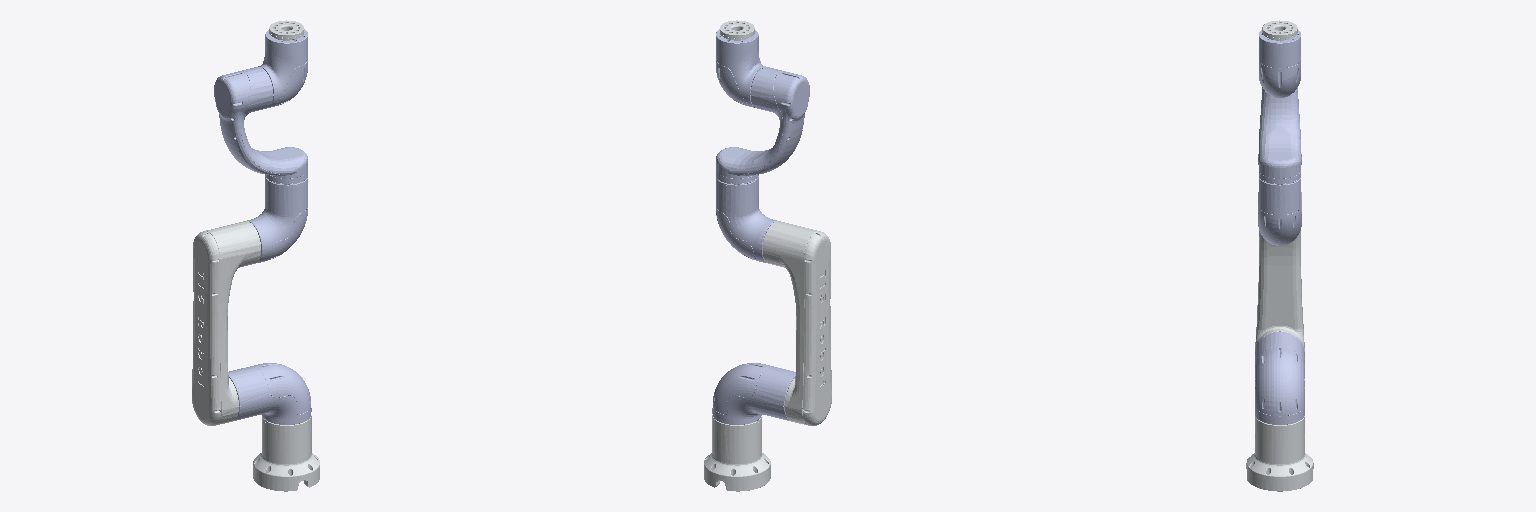
The robot description file, URDF, robot "arm3":
<?xml version="1.0" encoding="utf-8"?>
<!-- This URDF was automatically created by SolidWorks to URDF Exporter! Originally created by [author] ([email redacted]) 
     Commit Version: 1.6.0-1-g15f4949  Build Version: 1.6.7594.29634
     For more information, please see http://wiki.ros.org/sw_urdf_exporter -->
<robot
  name="arm3">
  <link
    name="base_link">
    <inertial>
      <origin
        xyz="-9.79424593313345E-06 -1.585955657668E-07 0.0489234030702085"
        rpy="0 0 0" />
      <mass
        value="0.804132326407685" />
      <inertia
        ixx="0.00208344333564978"
        ixy="1.18558125536883E-09"
        ixz="5.74696984729546E-07"
        iyy="0.00215790750330381"
        iyz="3.91108221651984E-09"
        izz="0.00189424843776922" />
    </inertial>
    <visual>
      <origin
        xyz="0 0 0"
        rpy="0 0 0" />
      <geometry>
        <mesh
          filename="package://ti5_description/meshes/arm3/base_link.STL" />
      </geometry>
      <material
        name="">
        <color
          rgba="0.898039215686275 0.917647058823529 0.929411764705882 1" />
      </material>
    </visual>
    <collision>
      <origin
        xyz="0 0 0"
        rpy="0 0 0" />
      <geometry>
        <mesh
          filename="package://ti5_description/meshes/arm3/base_link.STL" />
      </geometry>
    </collision>
  </link>
  <link
    name="A_Link">
    <inertial>
      <origin
        xyz="-0.0489008596868101 1.11612938793922E-06 0.0463358566053683"
        rpy="0 0 0" />
      <mass
        value="0.610762503342567" />
      <inertia
        ixx="0.00114147247329587"
        ixy="5.06610157576292E-08"
        ixz="0.000594506347228851"
        iyy="0.00188787363342557"
        iyz="-1.78802582128474E-09"
        izz="0.00179154452662575" />
    </inertial>
    <visual>
      <origin
        xyz="0 0 0"
        rpy="0 0 0" />
      <geometry>
        <mesh
          filename="package://ti5_description/meshes/arm3/A_Link.STL" />
      </geometry>
      <material
        name="">
        <color
          rgba="0.792156862745098 0.819607843137255 0.933333333333333 1" />
      </material>
    </visual>
    <collision>
      <origin
        xyz="0 0 0"
        rpy="0 0 0" />
      <geometry>
        <mesh
          filename="package://ti5_description/meshes/arm3/A_Link.STL" />
      </geometry>
    </collision>
  </link>
  <joint
    name="A"
    type="revolute">
    <origin
      xyz="0 0 0.126"
      rpy="0 0 0" />
    <parent
      link="base_link" />
    <child
      link="A_Link" />
    <axis
      xyz="0 0 -1" />
    <limit
      lower="-3.16"
      upper="3.16"
      effort="0"
      velocity="0" />
  </joint>
  <link
    name="B_Link">
    <inertial>
      <origin
        xyz="-0.0148174543621407 -7.32844793930168E-07 0.163674093761747"
        rpy="0 0 0" />
      <mass
        value="1.01613483164023" />
      <inertia
        ixx="0.0150679500066006"
        ixy="-4.4816327486528E-09"
        ixz="-0.00102504390856525"
        iyy="0.014770883335043"
        iyz="-1.82516394777523E-07"
        izz="0.00115753465608845" />
    </inertial>
    <visual>
      <origin
        xyz="0 0 0"
        rpy="0 0 0" />
      <geometry>
        <mesh
          filename="package://ti5_description/meshes/arm3/B_Link.STL" />
      </geometry>
      <material
        name="">
        <color
          rgba="0.898039215686275 0.917647058823529 0.929411764705882 1" />
      </material>
    </visual>
    <collision>
      <origin
        xyz="0 0 0"
        rpy="0 0 0" />
      <geometry>
        <mesh
          filename="package://ti5_description/meshes/arm3/B_Link.STL" />
      </geometry>
    </collision>
  </link>
  <joint
    name="B"
    type="revolute">
    <origin
      xyz="-0.126 0 0.064"
      rpy="0 0 0" />
    <parent
      link="A_Link" />
    <child
      link="B_Link" />
    <axis
      xyz="1 0 0" />
    <limit
      lower="-1.9"
      upper="1.9"
      effort="0"
      velocity="0" />
  </joint>
  <link
    name="C_Link">
    <inertial>
      <origin
        xyz="0.0525172381530465 -6.40515808356063E-07 0.0357525410320489"
        rpy="0 0 0" />
      <mass
        value="0.207878829794794" />
      <inertia
        ixx="0.000453317419670722"
        ixy="-7.59755901152063E-08"
        ixz="-0.000198039237717296"
        iyy="0.000537145689525471"
        iyz="2.48179360794005E-09"
        izz="0.000355868230184589" />
    </inertial>
    <visual>
      <origin
        xyz="0 0 0"
        rpy="0 0 0" />
      <geometry>
        <mesh
          filename="package://ti5_description/meshes/arm3/C_Link.STL" />
      </geometry>
      <material
        name="">
        <color
          rgba="0.792156862745098 0.819607843137255 0.933333333333333 1" />
      </material>
    </visual>
    <collision>
      <origin
        xyz="0 0 0"
        rpy="0 0 0" />
      <geometry>
        <mesh
          filename="package://ti5_description/meshes/arm3/C_Link.STL" />
      </geometry>
    </collision>
  </link>
  <joint
    name="C"
    type="revolute">
    <origin
      xyz="0.051 0 0.3"
      rpy="0 0 0" />
    <parent
      link="B_Link" />
    <child
      link="C_Link" />
    <axis
      xyz="-1 0 0" />
    <limit
      lower="-2.86"
      upper="2.86"
      effort="0"
      velocity="0" />
  </joint>
  <link
    name="D_Link">
    <inertial>
      <origin
        xyz="-0.0576191157563622 2.43715994806255E-05 0.0843683613129461"
        rpy="0 0 0" />
      <mass
        value="0.94571879177376" />
      <inertia
        ixx="0.00414477030324942"
        ixy="-2.77134320032314E-07"
        ixz="0.00138044790034346"
        iyy="0.0049787768272479"
        iyz="1.1299462726495E-06"
        izz="0.0017840358294831" />
    </inertial>
    <visual>
      <origin
        xyz="0 0 0"
        rpy="0 0 0" />
      <geometry>
        <mesh
          filename="package://ti5_description/meshes/arm3/D_Link.STL" />
      </geometry>
      <material
        name="">
        <color
          rgba="0.792156862745098 0.819607843137255 0.933333333333333 1" />
      </material>
    </visual>
    <collision>
      <origin
        xyz="0 0 0"
        rpy="0 0 0" />
      <geometry>
        <mesh
          filename="package://ti5_description/meshes/arm3/D_Link.STL" />
      </geometry>
    </collision>
  </link>
  <joint
    name="D"
    type="revolute">
    <origin
      xyz="0.075 0 0.116"
      rpy="0 0 0" />
    <parent
      link="C_Link" />
    <child
      link="D_Link" />
    <axis
      xyz="0 0 1" />
    <limit
      lower="-3.14"
      upper="3.14"
      effort="0"
      velocity="0" />
  </joint>
  <link
    name="E_Link">
    <inertial>
      <origin
        xyz="0.0378598160761921 -0.0307530160085382 -4.21029879971169E-06"
        rpy="0 0 0" />
      <mass
        value="0.156943200024781" />
      <inertia
        ixx="0.000278323597354339"
        ixy="8.60055845798391E-05"
        ixz="1.94162832921587E-08"
        iyy="0.000202881857355078"
        iyz="-1.27291248900308E-08"
        izz="0.000282189661463822" />
    </inertial>
    <visual>
      <origin
        xyz="0 0 0"
        rpy="0 0 0" />
      <geometry>
        <mesh
          filename="package://ti5_description/meshes/arm3/E_Link.STL" />
      </geometry>
      <material
        name="">
        <color
          rgba="0.792156862745098 0.819607843137255 0.933333333333333 1" />
      </material>
    </visual>
    <collision>
      <origin
        xyz="0 0 0"
        rpy="0 0 0" />
      <geometry>
        <mesh
          filename="package://ti5_description/meshes/arm3/E_Link.STL" />
      </geometry>
    </collision>
  </link>
  <joint
    name="E"
    type="revolute">
    <origin
      xyz="-0.049 0 0.189"
      rpy="-1.5708 0 0" />
    <parent
      link="D_Link" />
    <child
      link="E_Link" />
    <axis
      xyz="-1 0 0" />
    <limit
      lower="-3.14"
      upper="3.14"
      effort="0"
      velocity="0" />
  </joint>
  <link
    name="F_Link">
    <inertial>
      <origin
        xyz="-6.68543036141469E-11 0.00611552287926212 -0.00010310644248579"
        rpy="0 0 0" />
      <mass
        value="0.0834496515997102" />
      <inertia
        ixx="2.34250403399503E-05"
        ixy="3.2110899735671E-14"
        ixz="-1.38252176337189E-13"
        iyy="4.4477421647326E-05"
        iyz="4.41463010684962E-08"
        izz="2.31770375051733E-05" />
    </inertial>
    <visual>
      <origin
        xyz="0 0 0"
        rpy="0 0 0" />
      <geometry>
        <mesh
          filename="package://ti5_description/meshes/arm3/F_Link.STL" />
      </geometry>
      <material
        name="">
        <color
          rgba="0.898039215686275 0.917647058823529 0.929411764705882 1" />
      </material>
    </visual>
    <collision>
      <origin
        xyz="0 0 0"
        rpy="0 0 0" />
      <geometry>
        <mesh
          filename="package://ti5_description/meshes/arm3/F_Link.STL" />
      </geometry>
    </collision>
  </link>
  <joint
    name="F"
    type="revolute">
    <origin
      xyz="0.049 -0.108 0"
      rpy="0 0 0" />
    <parent
      link="E_Link" />
    <child
      link="F_Link" />
    <axis
      xyz="0 1 0" />
    <limit
      lower="-3.14"
      upper="3.14"
      effort="0"
      velocity="0" />
  </joint>


  

  </robot>

--- Render facts (derived) ---
3 views of the same robot in one strip: view 1: azimuth 30°, elevation 25°; view 2: azimuth 150°, elevation 25°; view 3: azimuth 270°, elevation 25° (orthographic).
Model arm3 with 7 links and 6 joints (6 revolute), rooted at base_link, posed every joint at zero.
Visible links, largest first — view 1: B_Link, D_Link, A_Link, base_link, C_Link, E_Link, F_Link; view 2: B_Link, D_Link, A_Link, base_link, C_Link, E_Link, F_Link; view 3: A_Link, B_Link, base_link, D_Link, C_Link, E_Link, F_Link.
Boxes of the visible links, x1,y1,x2,y2 form: B_Link: (192, 221, 260, 425); D_Link: (214, 67, 307, 184); A_Link: (228, 363, 311, 424); base_link: (253, 415, 319, 491); C_Link: (247, 176, 307, 262); E_Link: (258, 29, 307, 107); F_Link: (269, 20, 303, 40); B_Link: (763, 221, 831, 425); D_Link: (716, 67, 809, 184); A_Link: (712, 363, 795, 424); base_link: (704, 415, 770, 491); C_Link: (716, 176, 776, 262); E_Link: (716, 29, 765, 107); F_Link: (720, 20, 754, 40); A_Link: (1255, 332, 1304, 424); B_Link: (1255, 192, 1304, 351); base_link: (1246, 416, 1313, 491); D_Link: (1258, 87, 1301, 184); C_Link: (1258, 178, 1301, 245); E_Link: (1259, 30, 1300, 97); F_Link: (1262, 20, 1297, 40).
Bounding box of the posed robot: 0.2409 × 0.122 × 0.903 m (x, y, z).
Meshes: 7 distinct files referenced, 7 mesh visuals loaded (7 binary STL).